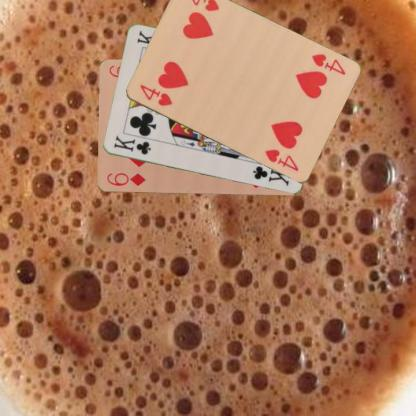4h: (309, 51, 346, 77), (137, 82, 173, 108)
6d: (104, 170, 147, 188)
Kc: (111, 133, 152, 156)
